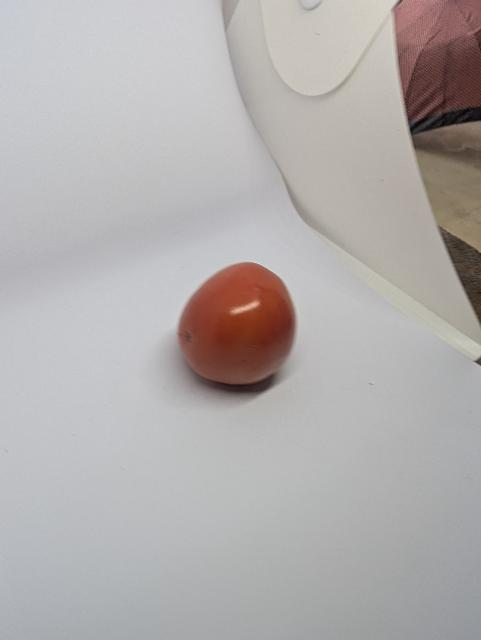red: (163, 246, 316, 409)
